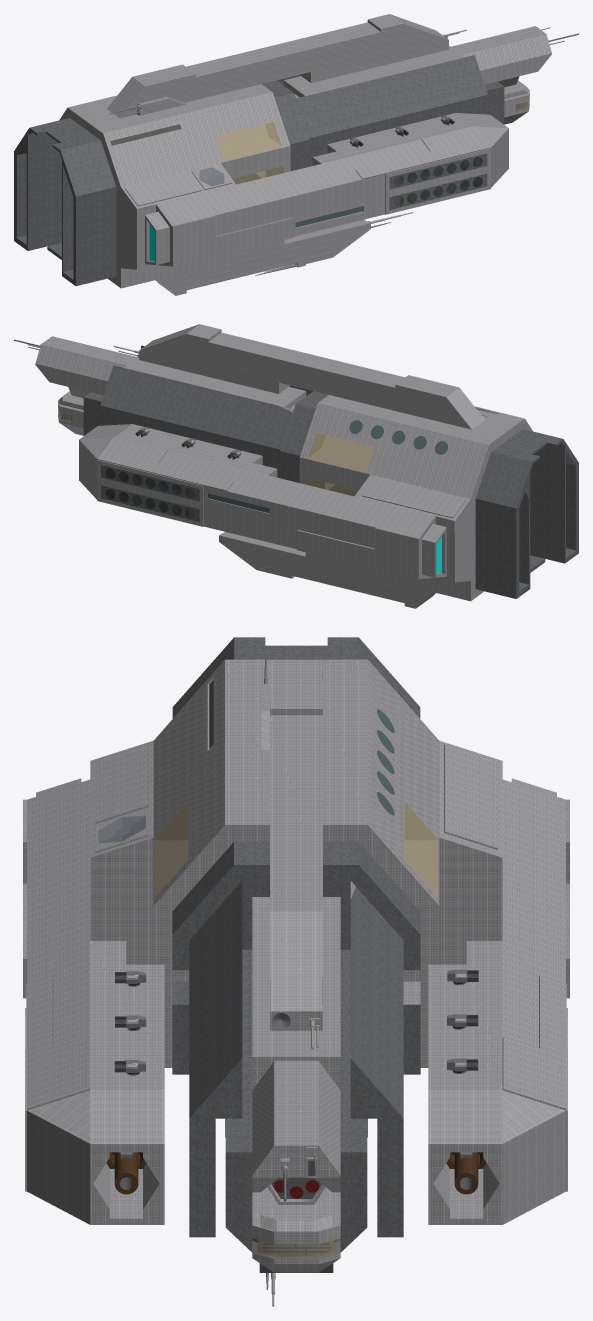
The picture shows the model from 3 angles, top to bottom: view 1: azimuth 30°, elevation 25°; view 2: azimuth 150°, elevation 25°; view 3: azimuth 270°, elevation 25°; orthographic projection. The views are drawn at different scales.
Parts seen in each view (by area): view 1: mesh27-geometry-1, mesh27-geometry-4, mesh29-geometry-0, mesh25-geometry-3, mesh27-geometry-0, mesh25-geometry-2, mesh27-geometry-6, mesh25-geometry-0, mesh27-geometry-2, mesh29-geometry-1, mesh29-geometry-3, mesh27-geometry-7; view 2: mesh27-geometry-1, mesh27-geometry-4, mesh26-geometry-3, mesh27-geometry-0, mesh26-geometry-2, mesh27-geometry-6, mesh26-geometry-0, mesh27-geometry-9, mesh27-geometry-2; view 3: mesh27-geometry-1, mesh27-geometry-4, mesh29-geometry-0, mesh27-geometry-0, mesh27-geometry-6, mesh27-geometry-15, mesh27-geometry-2, mesh10-geometry-2, mesh1-geometry-2, mesh27-geometry-9, mesh29-geometry-3.
Part boxes in pixels (x1,y1,x2,y2): mesh27-geometry-1: [59, 14, 551, 295]; mesh27-geometry-4: [14, 36, 504, 286]; mesh29-geometry-0: [121, 113, 508, 269]; mesh25-geometry-3: [385, 148, 490, 214]; mesh27-geometry-0: [216, 122, 283, 184]; mesh25-geometry-2: [389, 153, 487, 209]; mesh27-geometry-6: [216, 124, 281, 160]; mesh25-geometry-0: [394, 157, 482, 206]; mesh27-geometry-2: [233, 122, 283, 183]; mesh29-geometry-1: [295, 206, 362, 227]; mesh29-geometry-3: [199, 167, 224, 186]; mesh27-geometry-7: [110, 124, 180, 145]; mesh27-geometry-1: [35, 324, 532, 608]; mesh27-geometry-4: [83, 345, 578, 598]; mesh26-geometry-3: [97, 460, 203, 526]; mesh27-geometry-0: [306, 433, 374, 496]; mesh26-geometry-2: [101, 465, 199, 521]; mesh27-geometry-6: [308, 436, 374, 472]; mesh26-geometry-0: [105, 468, 194, 518]; mesh27-geometry-9: [208, 420, 447, 513]; mesh27-geometry-2: [306, 433, 357, 495]; mesh27-geometry-1: [153, 659, 569, 1306]; mesh27-geometry-4: [172, 637, 420, 1272]; mesh29-geometry-0: [23, 740, 164, 1224]; mesh27-geometry-0: [154, 802, 438, 896]; mesh27-geometry-6: [154, 840, 438, 896]; mesh27-geometry-15: [252, 1238, 340, 1259]; mesh27-geometry-2: [156, 803, 436, 839]; mesh10-geometry-2: [106, 1152, 146, 1194]; mesh1-geometry-2: [446, 1152, 486, 1194]; mesh27-geometry-9: [377, 709, 394, 815]; mesh29-geometry-3: [98, 815, 145, 843].
Bounding box in the file's own units: 0.8603 × 0.3355 × 0.3838.
